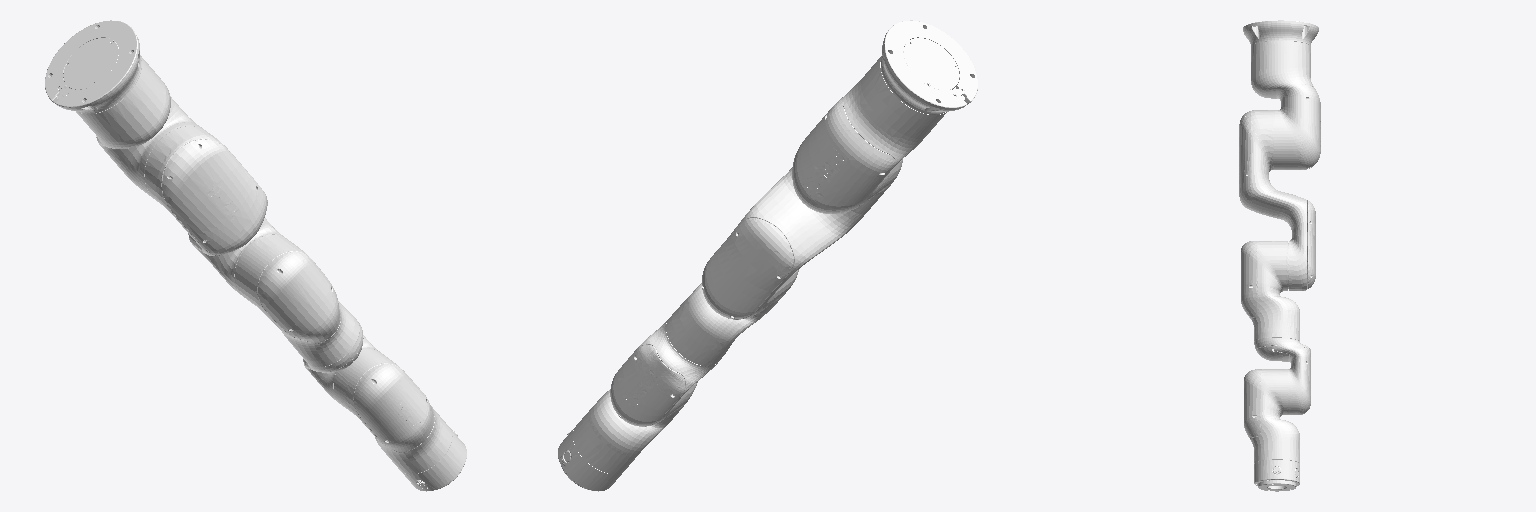
URDF robot description (minicobo_v1.4):
<?xml version="1.0" encoding="utf-8"?>
<!-- This URDF was automatically created by SolidWorks to URDF Exporter! Originally created by [author] ([email redacted])
     Commit Version: 1.6.0-4-g7f85cfe  Build Version: 1.6.7995.38578
     For more information, please see http://wiki.ros.org/sw_urdf_exporter -->
<robot name="minicobo_v1.4">

<!-- LINK -->
    <link name="world"/>

  <link name="Link0">
    <inertial>
      <origin xyz="-0.000169872459617813 -2.36448827889745E-08 0.0132846923173683"  rpy="0 0 0" />
      <mass value="3.76174" />
      <inertia ixx="0.000673719313504642" ixy="-1.30755705487849E-08" ixz="-1.3262407834936E-06" iyy="0.000666781851440875" iyz="-1.80735801539484E-11" izz="0.00123663316539255" />
    </inertial>
    <visual>
      <origin xyz="0 0 0" rpy="0 0 0" />
      <geometry>
        <mesh filename="package://minicobo_v14/meshes/Link0.dae" />
      </geometry>
      <material name="">
        <color rgba="1 1 1 1" />
      </material>
    </visual>
    <collision>
      <origin xyz="0 0 0" rpy="0 0 0" />
      <geometry>
        <mesh  filename="package://minicobo_v14/meshes/Link0.dae" />
      </geometry>
    </collision>
  </link>

  <link name="Link1">
    <inertial>
      <origin xyz="-1.99985037409469E-06 0.0134079971540169 -0.061631393869219" rpy="0 0 0" />
      <mass value="3.1571" />
      <inertia ixx="0.0128375469787325" ixy="2.28361925094216E-07" ixz="5.81760635898215E-08" iyy="0.0126762000445666" iyz="-0.00161037595218336" izz="0.00390574573183596" />
    </inertial>
    <visual>
      <origin xyz="0 0 0" rpy="0 0 0" />
      <geometry>
        <mesh filename="package://minicobo_v14/meshes/Link1.dae" />
      </geometry>
      <material
        name="">
        <color rgba="1 1 1 1" />
      </material>
    </visual>
    <collision>
      <origin xyz="0 0 0" rpy="0 0 0" />
      <geometry>
        <mesh  filename="package://minicobo_v14/meshes/Link1.dae" />
      </geometry>
    </collision>
  </link>

<link name="Link2">
    <inertial>
      <origin xyz="0.090613 -1.3771E-06 0.0043964"  rpy="0 0 0" />
      <mass value="1.0141" />
      <inertia ixx="0.0019174" ixy="6.2208E-07" ixz="0.0022687" iyy="0.0073149"  iyz="-3.3214E-07" izz="0.0064681" />
    </inertial>
    <visual>
      <origin xyz="0 0 0" rpy="0 0 0" />
      <geometry>
        <mesh filename="package://minicobo_v14/meshes/Link2.dae" />
      </geometry>
      <material name="">
        <color rgba="1 1 1 1" />
      </material>
    </visual>
    <collision>
      <origin xyz="0 0 0" rpy="0 0 0" />
      <geometry>
        <mesh filename="package://minicobo_v14/meshes/Link2.dae" />
      </geometry>
    </collision>
  </link>

<link name="Link3">
    <inertial>
      <origin xyz="-2.836E-07 0.042086 0.012428" rpy="0 0 0" />
      <mass  value="2.018" />
      <inertia ixx="0.0055107" ixy="2.2287E-08" ixz="-3.4784E-08" iyy="0.0017496" iyz="0.0005528" izz="0.0052708" />
    </inertial>
    <visual>
      <origin xyz="0 0 0" rpy="0 0 0" />
      <geometry>
        <mesh filename="package://minicobo_v14/meshes/Link3.dae" />
      </geometry>
      <material name="">
        <color rgba="1 1 1 1" />
      </material>
    </visual>
    <collision>
      <origin xyz="0 0 0" rpy="0 0 0" />
      <geometry>
        <mesh filename="package://minicobo_v14/meshes/Link3.dae" />
      </geometry>
    </collision>
  </link>

<link name="Link4">
    <inertial>
      <origin xyz="-5.23366787087349E-06 0.025945911865393 -0.0349284126752025" rpy="0 0 0" />
      <mass value="0.412340000009804" />
      <inertia ixx="0.000648308078586465" ixy="2.01279577389176E-08" ixz="-2.91846428270101E-08" iyy="0.000622438484108618" iyz="-0.000147788635079694" izz="0.000313549566736677" />
    </inertial>
    <visual>
      <origin xyz="0 0 0" rpy="0 0 0" />
      <geometry>
        <mesh filename="package://minicobo_v14/meshes/Link4.dae" />
      </geometry>
      <material name="">
        <color rgba="1 1 1 1" />
      </material>
    </visual>
    <collision>
      <origin xyz="0 0 0" rpy="0 0 0" />
      <geometry>
        <mesh filename="package://minicobo_v14/meshes/Link4.dae" />
      </geometry>
    </collision>
  </link>

<link name="Link5">
    <inertial>
      <origin xyz="8.7254E-06 0.044553 0.010268" rpy="0 0 0" />
      <mass  value="1.6793" />
      <inertia ixx="0.0040718" ixy="4.0506E-07"  ixz="1.0998E-07" iyy="0.0013014" iyz="0.00040116" izz="0.0039042" />
    </inertial>
    <visual>
      <origin xyz="0 0 0" rpy="0 0 0" />
      <geometry>
        <mesh filename="package://minicobo_v14/meshes/Link5.dae" />
      </geometry>
      <material name="">
        <color rgba="1 1 1 1" />
      </material>
    </visual>
    <collision>
      <origin xyz="0 0 0" rpy="0 0 0" />
      <geometry>
        <mesh filename="package://minicobo_v14/meshes/Link5.dae" />
      </geometry>
    </collision>
  </link>

<link name="Link6">
    <inertial>
      <origin xyz="-2.33954680956047E-05 3.42676856690269E-05 -0.0202928698270544" rpy="0 0 0" />
      <mass value="0.311970001247665" />
      <inertia ixx="0.00014377819366" ixy="-8.50913479195225E-07"  ixz="-2.37501745813128E-07"  iyy="0.000142682702873271"  iyz="-3.26920852568197E-08" izz="0.000221812602025683" />
    </inertial>
    <visual>
      <origin xyz="0 0 0"  rpy="0 0 0" />
      <geometry>
        <mesh  filename="package://minicobo_v14/meshes/Link6.dae" />
      </geometry>
      <material name="">
        <color rgba="1 1 1 1" />
      </material>
    </visual>
    <collision>
      <origin xyz="0 0 0" rpy="0 0 0" />
      <geometry>
        <mesh filename="package://minicobo_v14/meshes/Link6.dae" />
      </geometry>
    </collision>
  </link>

<link name="dummy_tcp"/>


  <!-- JOINT -->

    <joint name="world_joint" type="fixed">
        <origin xyz="-0.25 0 0.75" rpy="0 2.5 0" />
        <parent link="world"/>
        <child link="Link0"/>
    </joint>

  <joint name="Joint1" type="revolute">
    <origin xyz="0 0 0.187" rpy="0 0 0" />
    <parent link="Link0" />
    <child link="Link1" />
    <axis xyz="0 0 1" />
    <limit lower="-6.28" upper="6.28"  effort="100" velocity="1.57" />
  </joint>

  <joint  name="Joint2" type="revolute">
    <origin xyz="0 -0.006 0" rpy="1.5708 -1.5708 0" />
    <parent  link="Link1" />
    <child link="Link2" />
    <axis xyz="0 0 1" />
    <limit lower="-2.09" upper="2.09" effort="100" velocity="1.57" />
  </joint>

  <joint  name="Joint3" type="revolute">
    <origin xyz="0.21 0 0" rpy="0 0 -1.5708" />
    <parent link="Link2" />
    <child link="Link3" />
    <axis xyz="0 0 1" />
    <limit lower="-2.27" upper="2.27" effort="100" velocity="1.57" />
  </joint>

  <joint name="Joint4" type="revolute">
    <origin xyz="0 0.2105 0" rpy="-1.5708 0 0" />
    <parent link="Link3" />
    <child link="Link4" />
    <axis xyz="0 0 1" />
    <limit lower="-6.28" upper="6.28" effort="100" velocity="1.57" />
  </joint>

  <joint name="Joint5" type="revolute">
    <origin xyz="0 0 0" rpy="1.5708 0 0" />
    <parent link="Link4" />
    <child link="Link5" />
    <axis xyz="0 0 1" />
    <limit lower="-2.09" upper="2.09" effort="100" velocity="1.57" />
  </joint>

  <joint name="Joint6" type="revolute">
    <origin xyz="0 0.1593 0" rpy="-1.5708 0 0" />
    <parent  link="Link5" />
    <child link="Link6" />
    <axis xyz="0 0 1" />
    <limit lower="-6.28" upper="6.28" effort="100" velocity="1.57" />
  </joint>

<joint name="dummy_tcp_joint" type="fixed">
        <origin xyz="0 0 0" rpy="0 0 0" />
        <parent link="Link6" />
        <child link="dummy_tcp" />
    </joint>
</robot>

--- What the picture shows (computed from the rendered views, not written in the file) ---
3 views of the same robot in one strip: view 1: azimuth 30°, elevation 25°; view 2: azimuth 150°, elevation 25°; view 3: azimuth 270°, elevation 25° (orthographic).
Robot: minicobo_v1.4 — 9 links, 8 joints (6 revolute, 2 fixed); root link world; default pose: all joints at 0.
Links seen in each view (by area): view 1: Link2, Link3, Link5, Link0, Link1, Link6, Link4; view 2: Link1, Link2, Link0, Link4, Link5, Link3, Link6; view 3: Link1, Link2, Link3, Link5, Link4, Link0, Link6.
Boxes of the visible links, box(x1,y1,x2,y2) form: Link2: box(145, 126, 283, 294); Link3: box(235, 235, 359, 366); Link5: box(334, 349, 451, 473); Link0: box(45, 20, 141, 113); Link1: box(76, 55, 202, 198); Link6: box(401, 428, 466, 491); Link4: box(303, 322, 379, 403); Link1: box(792, 56, 946, 213); Link2: box(702, 159, 902, 319); Link0: box(881, 20, 977, 114); Link4: box(610, 320, 717, 426); Link5: box(573, 382, 697, 473); Link3: box(666, 270, 798, 365); Link6: box(558, 429, 622, 491); Link1: box(1251, 41, 1320, 169); Link2: box(1239, 110, 1315, 290); Link3: box(1241, 241, 1299, 341); Link5: box(1244, 369, 1299, 463); Link4: box(1254, 338, 1310, 414); Link0: box(1243, 20, 1318, 45); Link6: box(1254, 460, 1299, 491).
Bounding box of the posed robot: 0.534 × 0.133 × 0.6694 m (x, y, z).
Meshes: 7 distinct files referenced, 7 mesh visuals loaded (7 Collada DAE).
